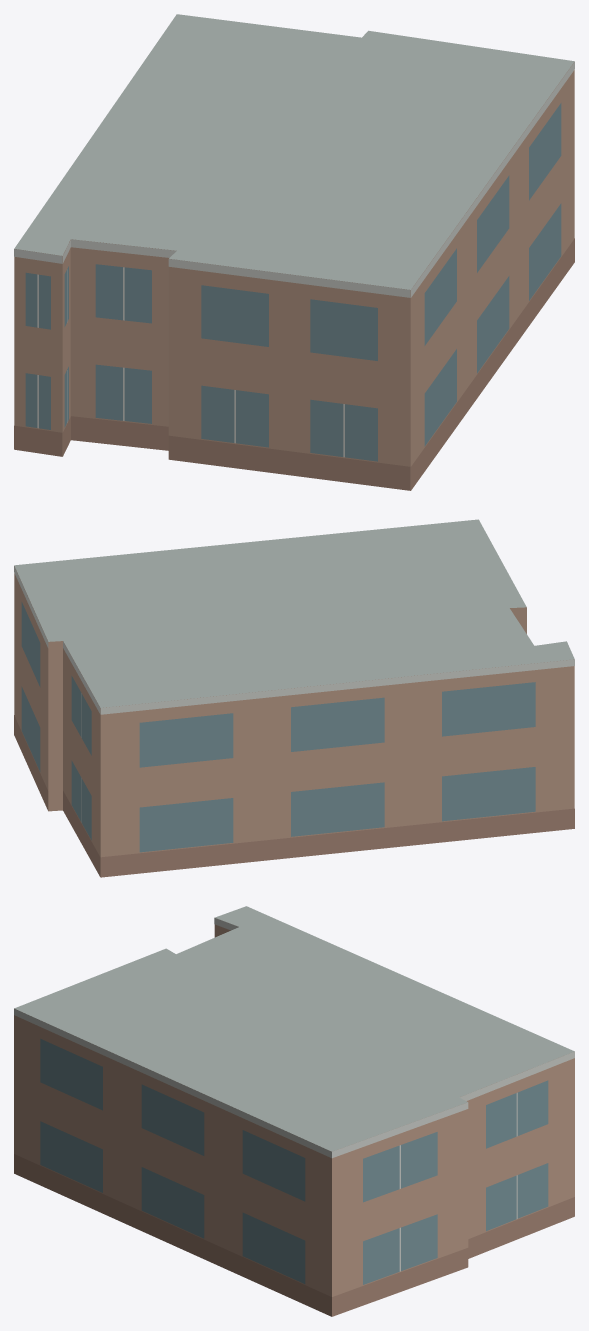
Rendered from survey-upis-32598394.glb.
3 views of the same model, one above another, from view 1: azimuth 30°, elevation 25°; view 2: azimuth 150°, elevation 25°; view 3: azimuth 270°, elevation 25° (orthographic). The views are drawn at different scales.
Visible parts, largest first — view 1: survey-upis-32598394.tmp; view 2: survey-upis-32598394.tmp; view 3: survey-upis-32598394.tmp.
Boxes of the visible parts, bbox=[...] form: survey-upis-32598394.tmp: bbox=[14, 14, 574, 490]; survey-upis-32598394.tmp: bbox=[14, 519, 574, 877]; survey-upis-32598394.tmp: bbox=[14, 906, 574, 1316].
Bounding box in the file's own units: 19.47 × 6.1 × 18.78.
